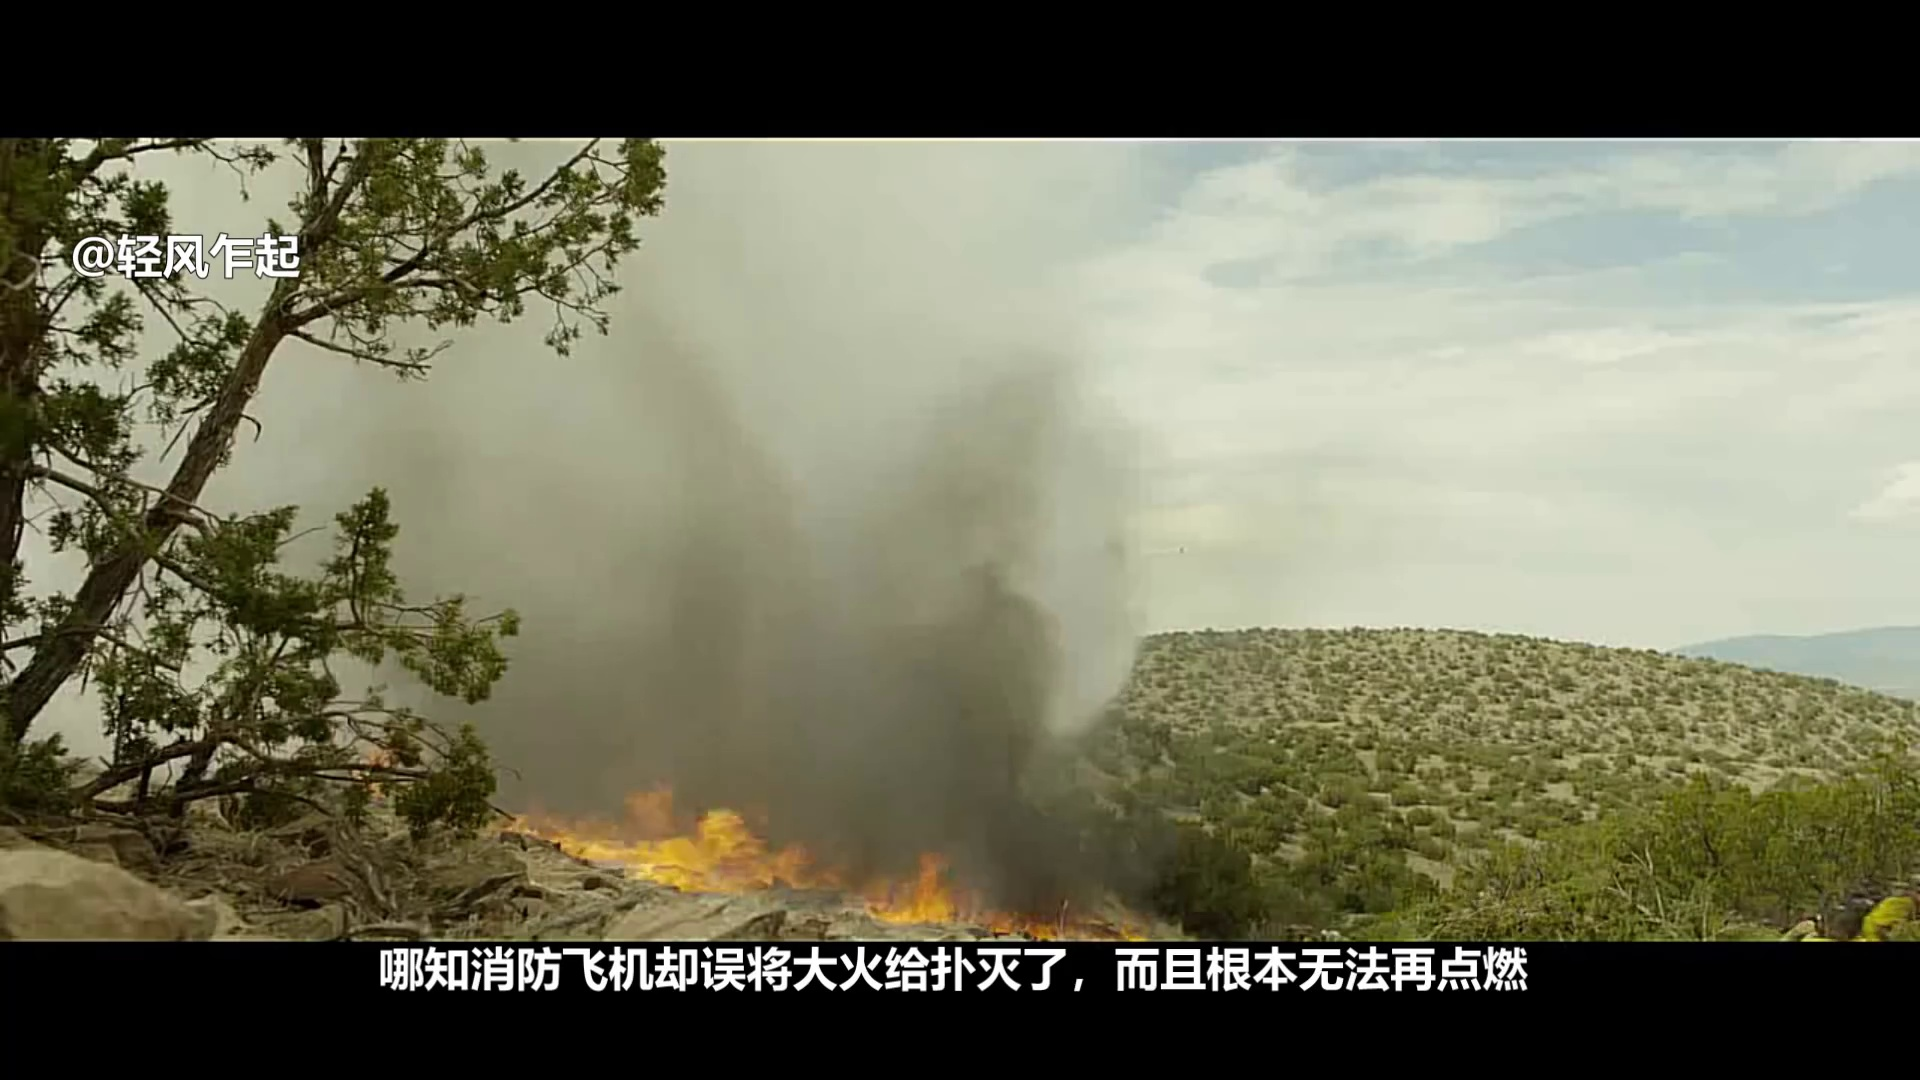fire: (616, 808, 750, 889), (886, 887, 947, 928)
